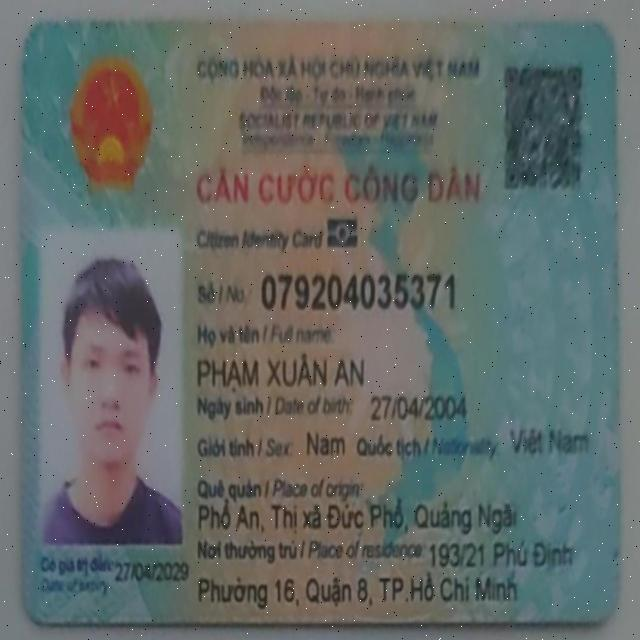current_place: (198, 567, 522, 611), (425, 530, 574, 576)
dob: (370, 389, 470, 425)
expire_date: (114, 555, 192, 587)
gender: (304, 423, 347, 461)
id: (259, 271, 459, 314)
name: (196, 349, 367, 398)
nationality: (509, 423, 592, 463)
origin_place: (193, 495, 521, 537)
qr: (501, 59, 587, 193)
